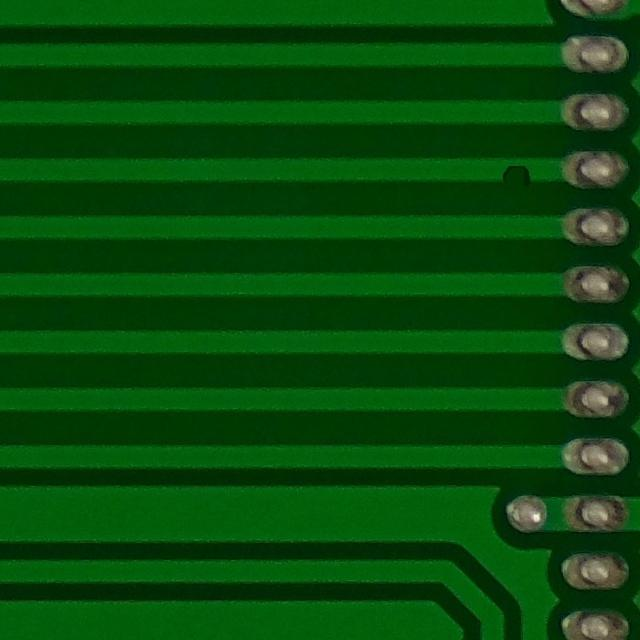mouse_bite: (488, 148, 546, 195)
